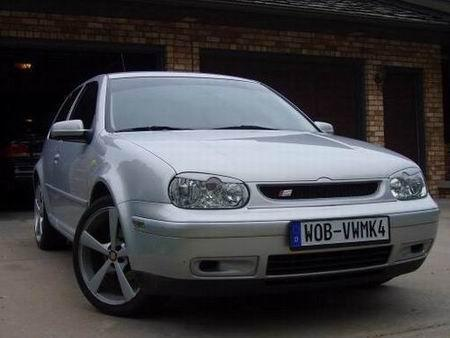placa de veiculo: (281, 209, 398, 254)
